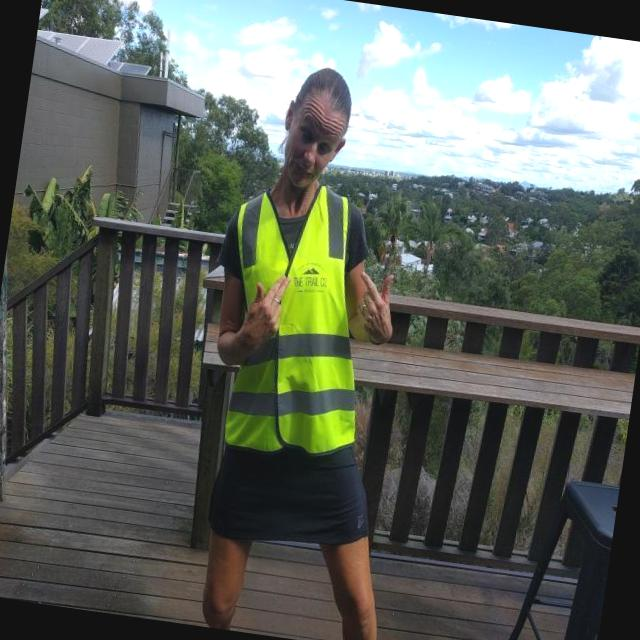no-gloves: (231, 260, 296, 360), (339, 262, 407, 347)
no-helmet: (262, 50, 388, 234)
vest: (218, 176, 378, 464)
